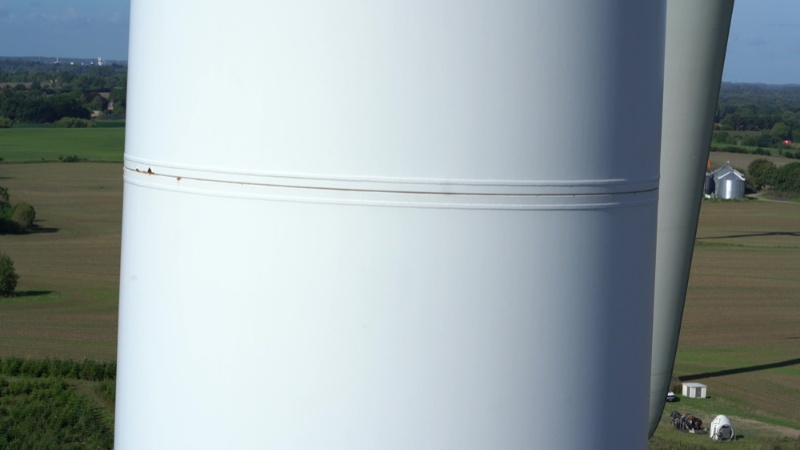weldseam: (123, 149, 661, 189), (125, 173, 660, 213)
